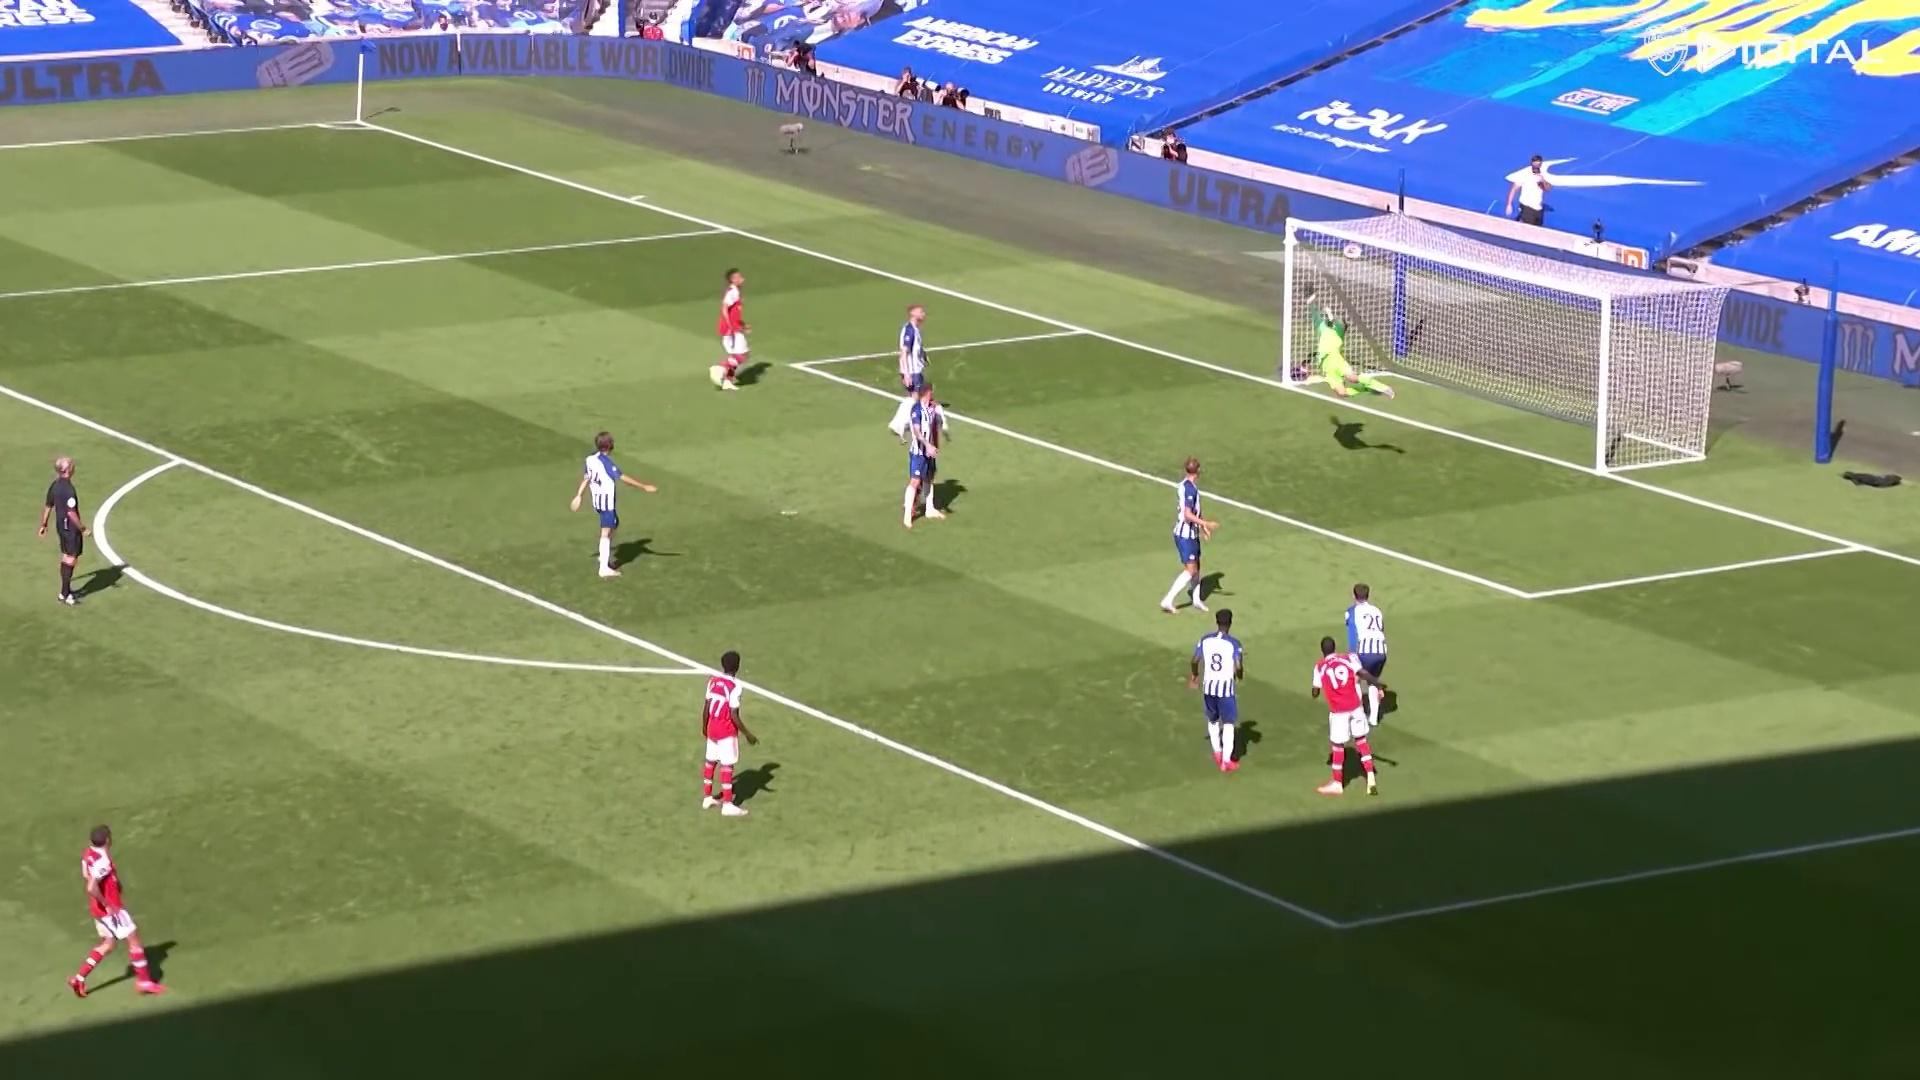ball: (1341, 241, 1366, 263)
goalkeeper: (1300, 290, 1398, 401)
player: (72, 818, 171, 1001), (571, 426, 660, 583), (1307, 633, 1382, 802), (700, 650, 770, 825), (1185, 604, 1253, 775), (1160, 457, 1222, 619), (1339, 579, 1402, 731), (900, 379, 959, 532), (894, 298, 952, 435), (708, 267, 759, 394)
referee: (36, 454, 97, 614)
